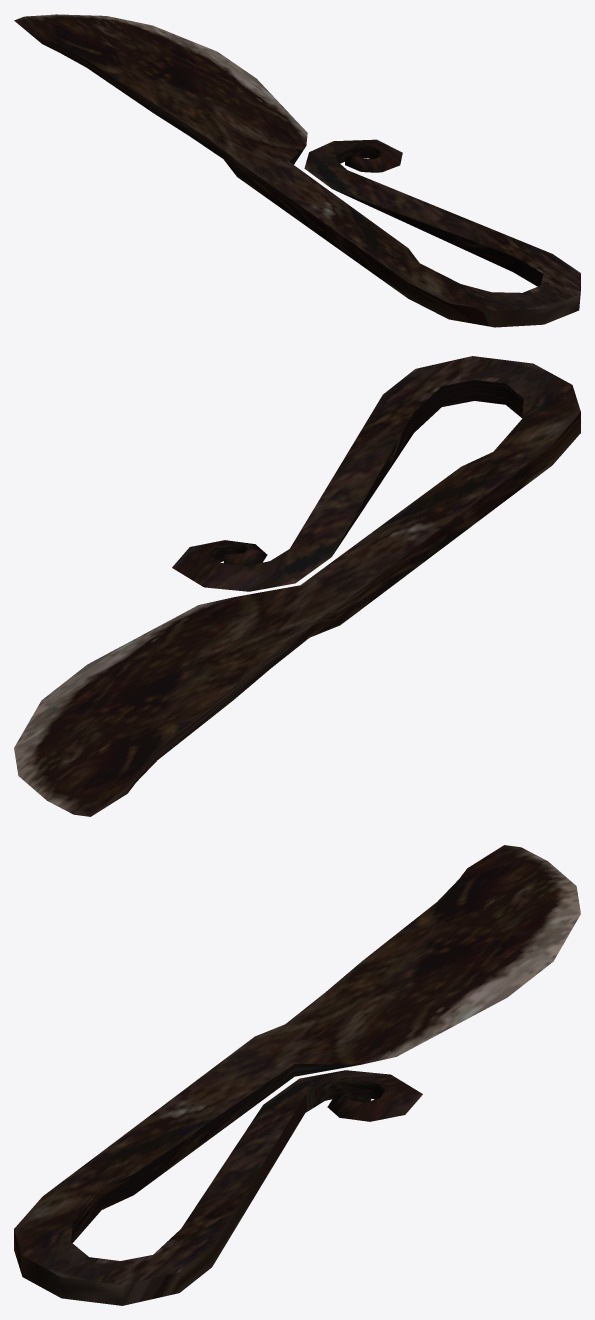
File: dissect_knife.dae
3 renders of one model, top to bottom at view 1: azimuth 30°, elevation 25°; view 2: azimuth 150°, elevation 25°; view 3: azimuth 330°, elevation 25°, orthographic. The views are drawn at different scales.
Visible parts, largest first — view 1: pPlane1; view 2: pPlane1; view 3: pPlane1.
Boxes of the visible parts, <box> form: pPlane1: <box>14,14,580,327</box>; pPlane1: <box>14,356,580,816</box>; pPlane1: <box>14,845,580,1305</box>.
Size of the model in its own units: 0.0895 by 0.00875 by 0.4282.
